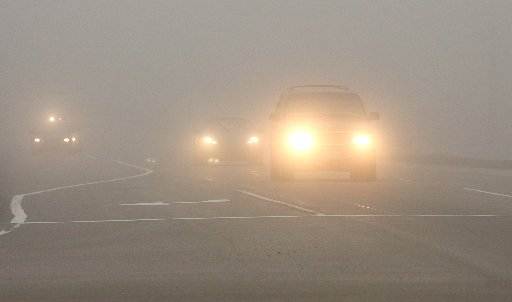car: (267, 85, 380, 184), (190, 116, 264, 170), (29, 121, 71, 151), (68, 112, 80, 154)
